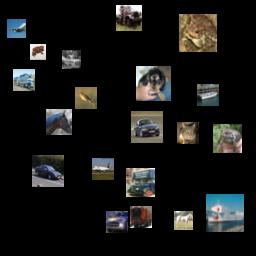airplane: (92, 158, 114, 180), (7, 19, 26, 38)
automobile: (131, 111, 163, 143), (32, 155, 64, 187), (106, 211, 128, 233), (62, 50, 81, 69)
bird: (75, 87, 97, 109)
cat: (177, 122, 199, 144)
dog: (136, 66, 171, 101)
frog: (179, 14, 217, 52), (213, 124, 242, 153), (30, 44, 46, 60)
ship: (206, 194, 244, 232), (197, 84, 219, 106)
truck: (126, 168, 155, 197), (116, 5, 142, 31), (13, 69, 35, 91), (130, 206, 152, 228)
